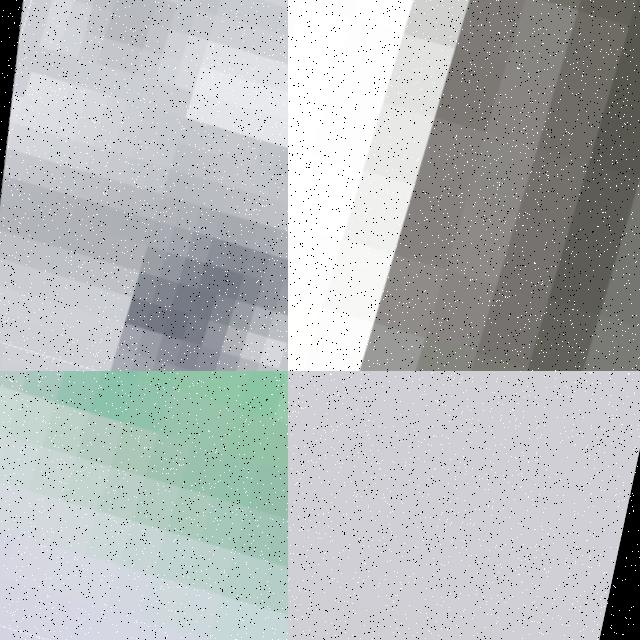0: (0, 0, 288, 371)
drone: (288, 0, 640, 371), (0, 371, 288, 640)
